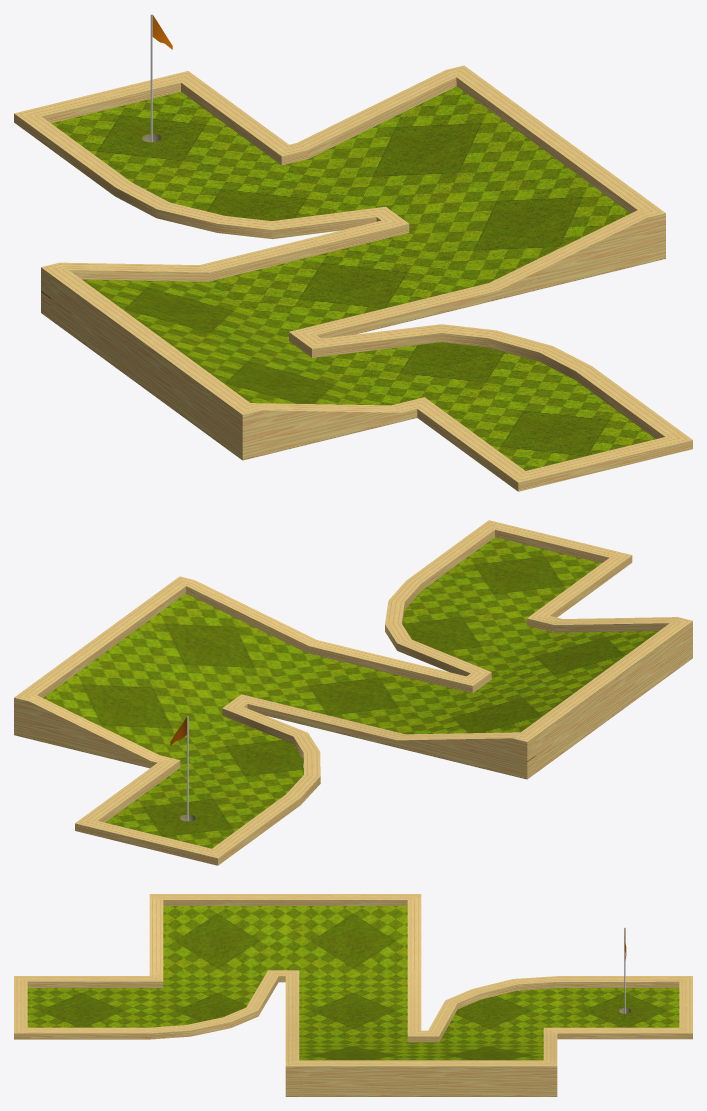
The model's file is course1_hole12.fbx.
3 views of the same model, one above another, from view 1: azimuth 30°, elevation 25°; view 2: azimuth 150°, elevation 25°; view 3: azimuth 270°, elevation 25° (orthographic). The views are drawn at different scales.
Visible parts, largest first — view 1: course1_hole12_ground, course1_hole12_walls; view 2: course1_hole12_ground, course1_hole12_walls; view 3: course1_hole12_ground, course1_hole12_walls.
Boxes of the visible parts, x1=… form: course1_hole12_ground: x1=51, y1=86, x2=655, y2=470; course1_hole12_walls: x1=14, y1=65, x2=692, y2=491; course1_hole12_ground: x1=43, y1=537, x2=658, y2=848; course1_hole12_walls: x1=14, y1=520, x2=692, y2=865; course1_hole12_ground: x1=27, y1=906, x2=679, y2=1060; course1_hole12_walls: x1=14, y1=894, x2=692, y2=1096.
Bounding box in the file's own units: 9 × 2.25 × 15.
